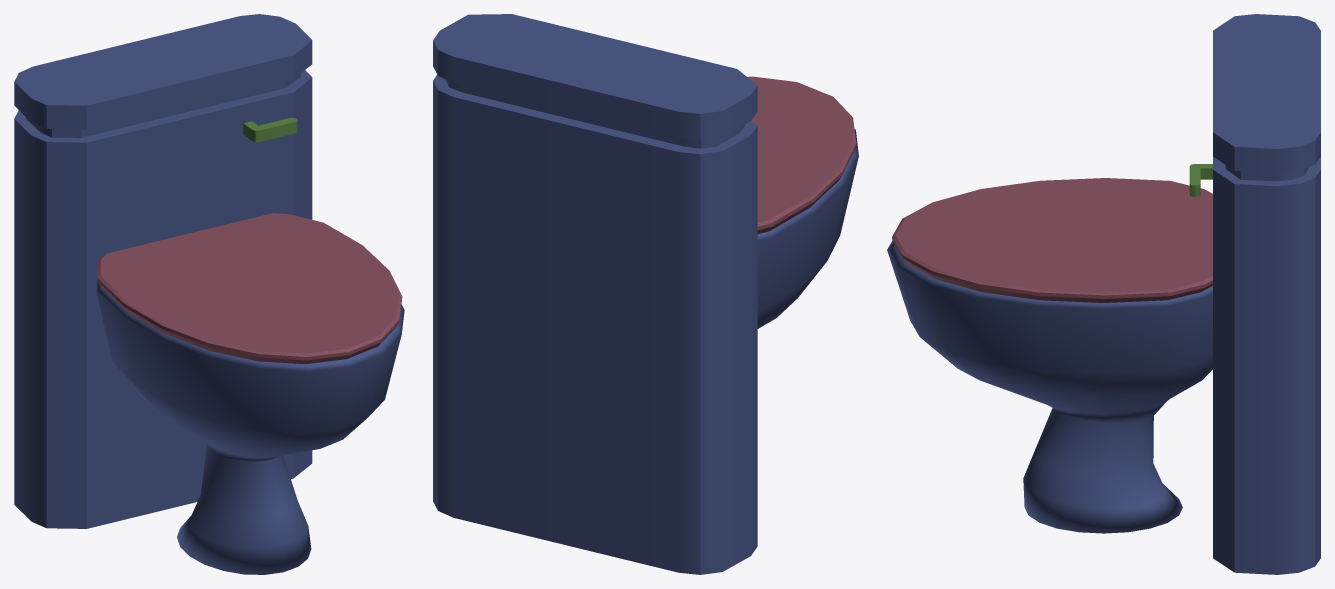
The model's file is toilet.fbx.
3 renders of one model, left to right at view 1: azimuth 30°, elevation 25°; view 2: azimuth 150°, elevation 25°; view 3: azimuth 270°, elevation 25°, orthographic. The views are drawn at different scales.
Visible parts, largest first — view 1: toilet; view 2: toilet; view 3: toilet.
Part boxes in pixels (x1,y1,x2,y2): toilet: [14, 14, 404, 574]; toilet: [433, 14, 858, 574]; toilet: [887, 14, 1320, 574].
Bounding box in the file's own units: 0.8307 × 1.22 × 1.13.
